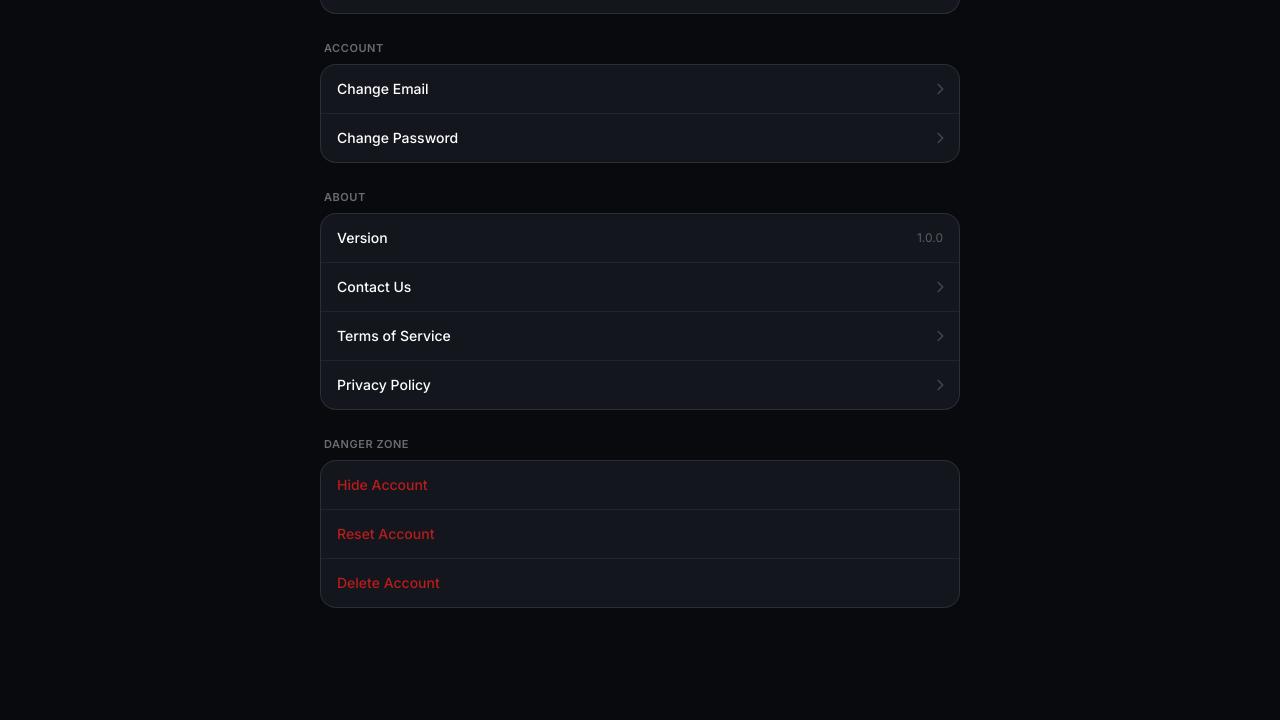
it: ProfileConfigurePage — danger zone › opens the Hide Account modal and requires a password to confirm
This screenshot has width=1280, height=720.
(page scrolled)
Click the button "Hide Account": click(382, 484) [321,461,959,509]
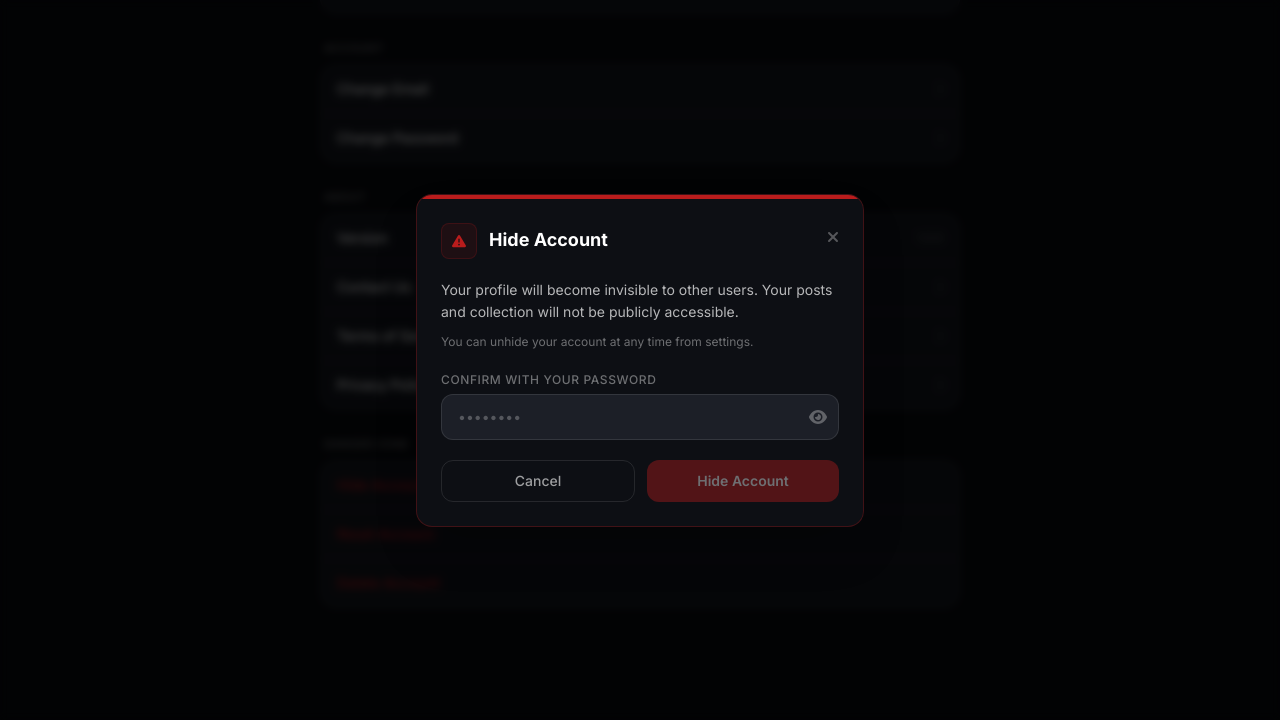
Result: the heading "Hide Account" is shown at [489,229,608,252]
Result: the button "Hide Account" is disabled at [647,460,839,502]
